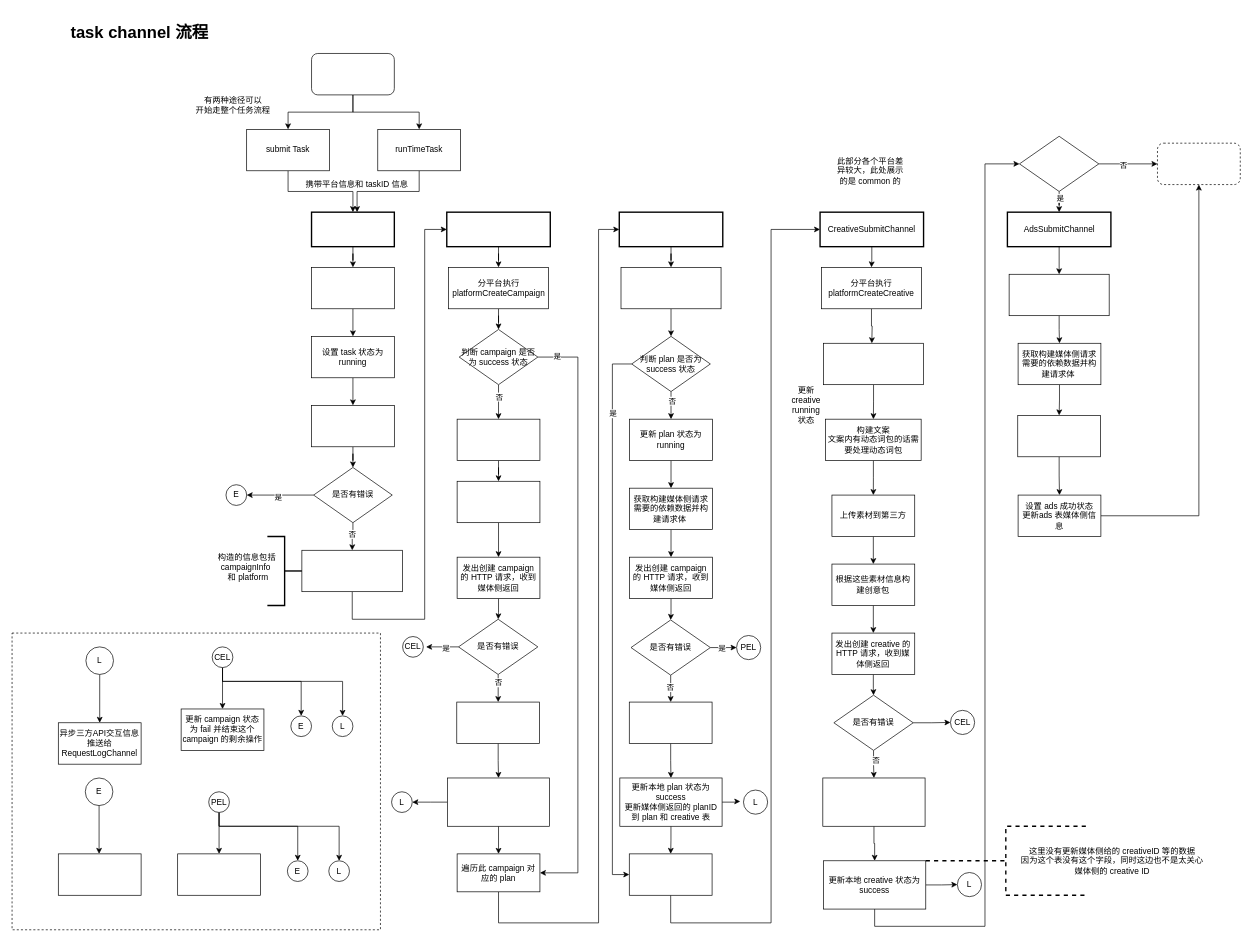
Some shapes in this 1252 by 944 pixel diagram are drawn without their labels. Each missing label, with the centre of its shape:
"CampaignSubmitChannel" goes at point (498, 229).
"PlanSubmitChannel" goes at point (670, 229).
"TaskIDChannel" goes at point (352, 229).
"分平台执行 platformCreatePlan" goes at point (670, 288).
"分平台执行 platformSubmitTask" goes at point (352, 288).
"发出创建 ads 的 HTTP 请求，收到媒体侧返回" goes at point (1059, 436).
"开始" goes at point (352, 74).
"异步将错误推送给TaskErrorChannel" goes at point (99, 874).
"是否为广点通" goes at point (1059, 163).
"更新 campaign 为 running" goes at point (498, 439).
"更新 plan 状态为 fail 并结束这个 plan 的剩余操作" goes at point (218, 874).
"更新 task 任务完成进度 creative 和 doc" goes at point (873, 801).
"更新 task 完成进度 campaign + 1" goes at point (498, 722).
"更新本地 campaign 状态为 success 更新媒体侧返回的 campaignID 到 campaign 和 plan 表" goes at point (498, 801).
"构造三方请求的请求体，类型和URL" goes at point (498, 502).
"根据 taskID 获得关联的 campaign List" goes at point (352, 426).
"结束" goes at point (1198, 163).
"获取素材信息 从 smartAds 同步过来的" goes at point (873, 364).
"设置 ads 状态为 running" goes at point (1058, 295).
"跟新 task 任务完成进度 plan + 1" goes at point (670, 722).
"遍历 campaign List 构造 channel 信息推送到 campaignSubmitChannel" goes at point (352, 571).
"遍历此 plan 对应的 creative" goes at point (670, 874).
